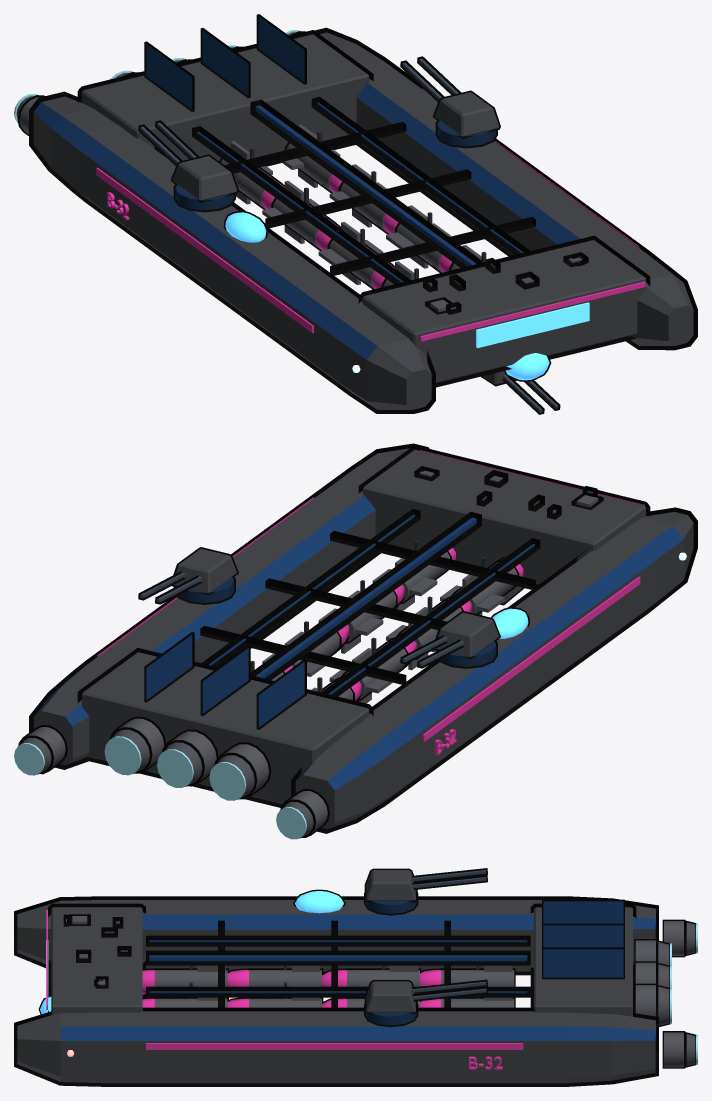
The model's file is Plane_BomberHeavy.fbx.
3 views of the same model, one above another, from view 1: azimuth 30°, elevation 25°; view 2: azimuth 150°, elevation 25°; view 3: azimuth 270°, elevation 25° (orthographic). The views are drawn at different scales.
Visible parts, largest first — view 1: Boom-1, Boom1, Bridge, Aft, Spine, Rack-1, Rack1, Visor.004, TurretD-1_House, TurretD1_House, Stripe-1, Cross0.0 (+16 smaller); view 2: Boom-1, Boom1, Bridge, Aft, Spine, Rack1, Rack-1, Stripe-1, Rad1.5, Rad-1.5, Rad0.0, Cross-3.0 (+25 smaller); view 3: Boom1, Boom-1, Bridge, Spine, Aft, Rack-1, Rack1, Rad1.5, Stripe1, Rad-1.5, Rad0.0, TurretD-1_House (+30 smaller).
Part boxes in pixels (x1,y1,x2,y2): Boom-1: (29,91,435,413); Boom1: (315,27,697,350); Bridge: (358,235,650,387); Aft: (77,30,373,166); Spine: (250,99,481,267); Rack-1: (192,126,410,284); Rack1: (311,96,530,254); Visor.004: (476,302,589,348); TurretD-1_House: (170,154,238,202); TurretD1_House: (432,90,500,138); Stripe-1: (96,167,313,332); Cross0.0: (265,169,471,228); Boom-1: (291,507,697,833); Boom1: (29,443,429,769); Bridge: (358,445,650,586); Aft: (77,648,373,807); Spine: (250,512,481,680); Rack1: (201,509,420,667); Rack-1: (321,538,540,696); Stripe-1: (422,576,640,741); Rad1.5: (144,632,194,702); Rad-1.5: (256,659,306,729); Rad0.0: (200,645,250,715); Cross-3.0: (330,531,535,589); Boom1: (14,1007,658,1086); Boom-1: (14,896,658,975); Bridge: (48,903,145,1014); Spine: (146,950,530,965); Aft: (530,903,636,1016); Rack-1: (146,935,530,946); Rack1: (146,986,530,997); Rad1.5: (542,947,624,979); Stripe1: (146,1043,523,1049); Rad-1.5: (542,899,624,923); Rad0.0: (542,923,624,947); TurretD-1_House: (364,868,417,902).
Bounding box in the file's own units: 8.92 × 3.31 × 18.13.
